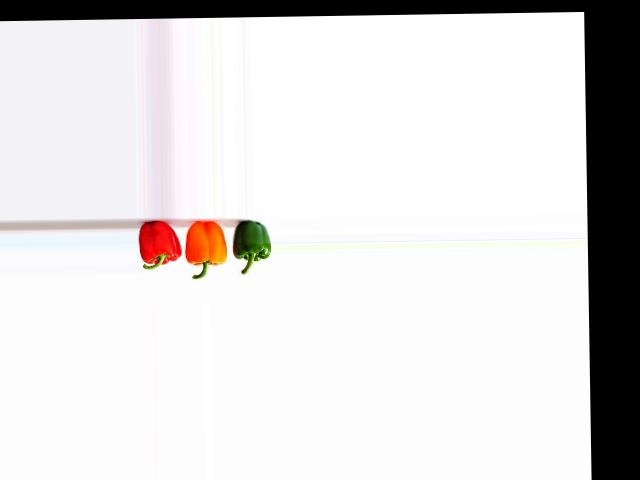bell_pepper: (135, 221, 182, 279)
